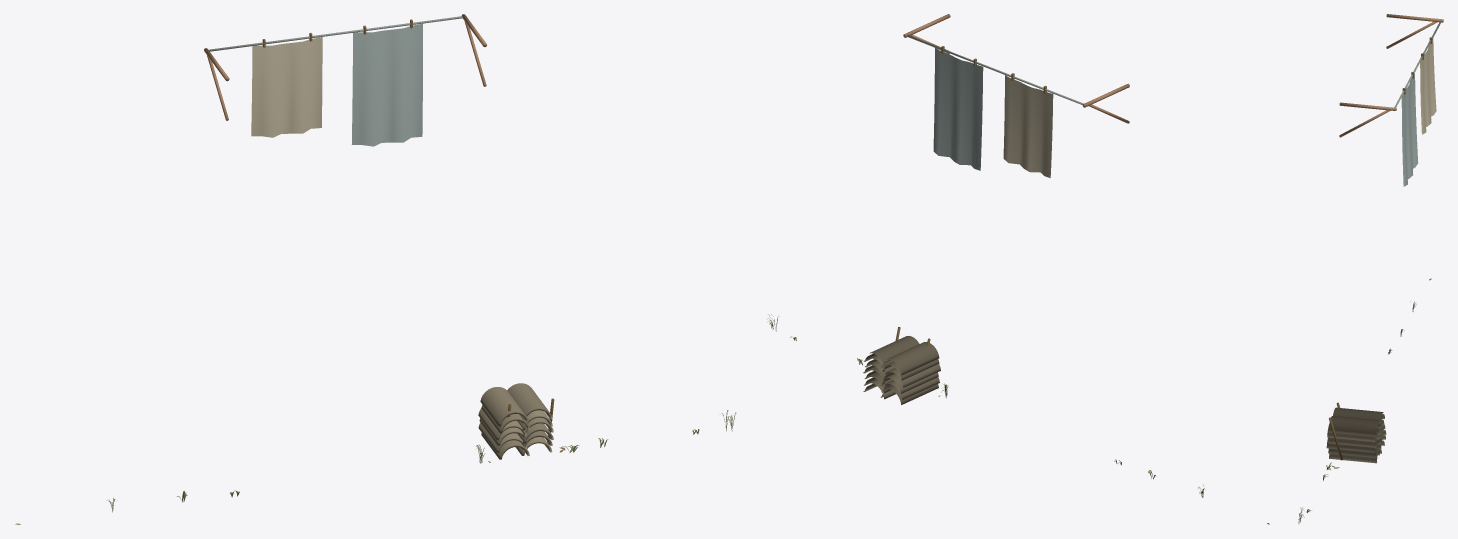
Rendered from tile_corner.glb.
3 views of the same model, side by side, from view 1: azimuth 30°, elevation 25°; view 2: azimuth 150°, elevation 25°; view 3: azimuth 270°, elevation 25° (orthographic). The views are drawn at different scales.
Visible parts, largest first — view 1: linen, concrete.002, rust.001; view 2: linen, concrete.002, rust.001; view 3: concrete.002, linen, rust.001, wood.002, metal.001, verge_green.002.
Part boxes in pixels (bbox=[...]): linen: bbox=[251, 23, 422, 146]; concrete.002: bbox=[478, 383, 553, 459]; rust.001: bbox=[204, 14, 486, 120]; linen: bbox=[933, 48, 1053, 177]; concrete.002: bbox=[863, 336, 940, 404]; rust.001: bbox=[903, 14, 1129, 123]; concrete.002: bbox=[1326, 407, 1386, 463]; linen: bbox=[1401, 38, 1436, 186]; rust.001: bbox=[1339, 14, 1443, 137]; wood.002: bbox=[1329, 37, 1432, 460]; metal.001: bbox=[1394, 20, 1441, 107]; verge_green.002: bbox=[1298, 278, 1431, 523].
Bounding box in the file's own units: 5.75 × 3.65 × 1.42.
